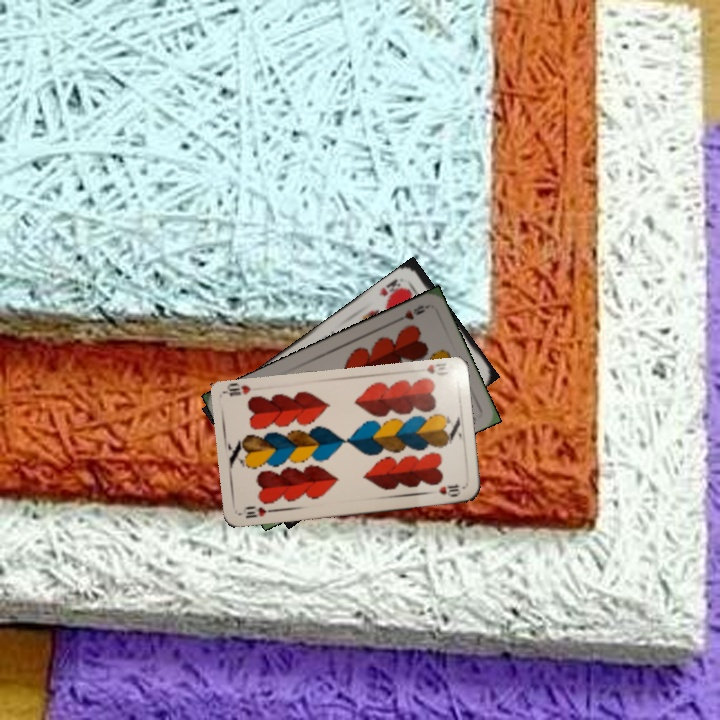H10: (241, 502, 278, 521), (422, 360, 451, 378)
H9: (392, 301, 430, 325)
HK: (375, 275, 408, 303)
